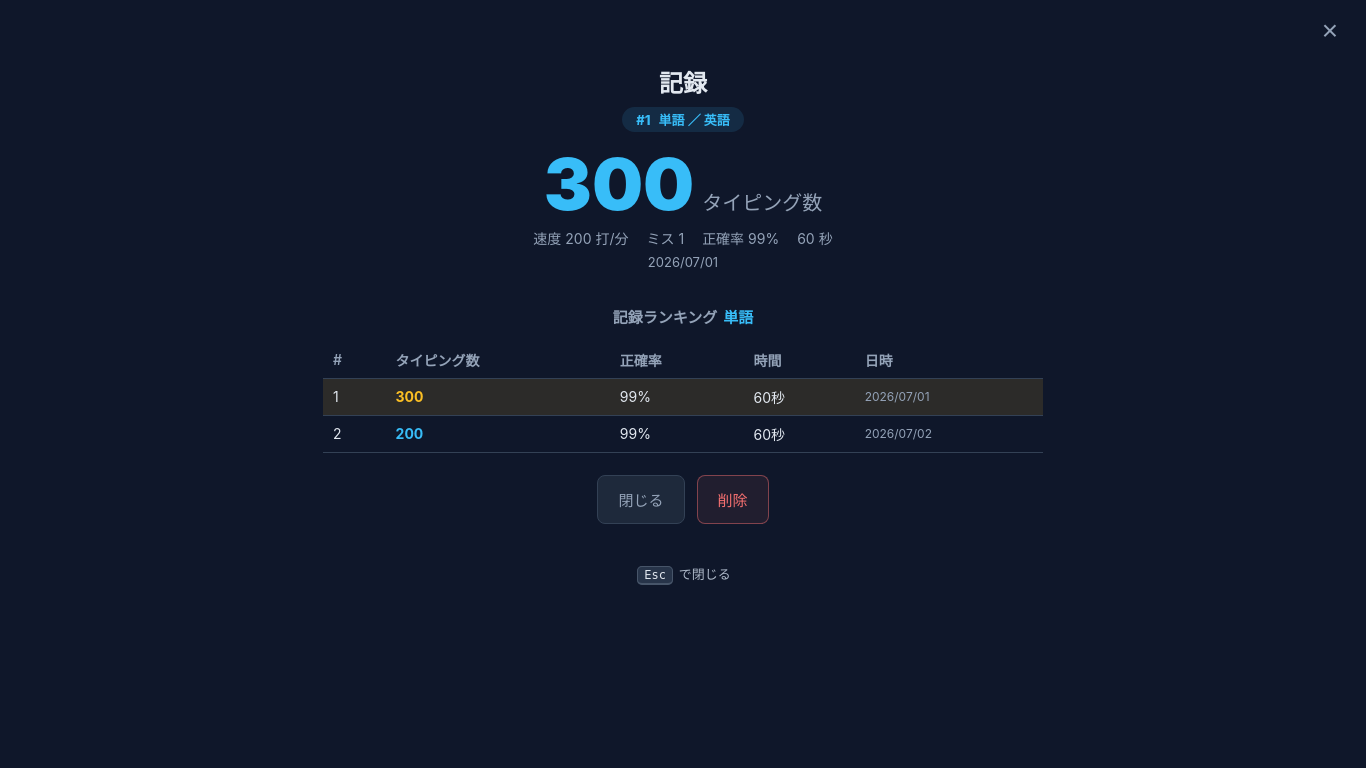
Test case: RecordDetail：削除の2段階確認 › 1回目のクリックでは削除せず、確認状態になるだけ
Click the button with aria-label "この記録を削除する" at (732, 499), box [696, 475, 768, 524]
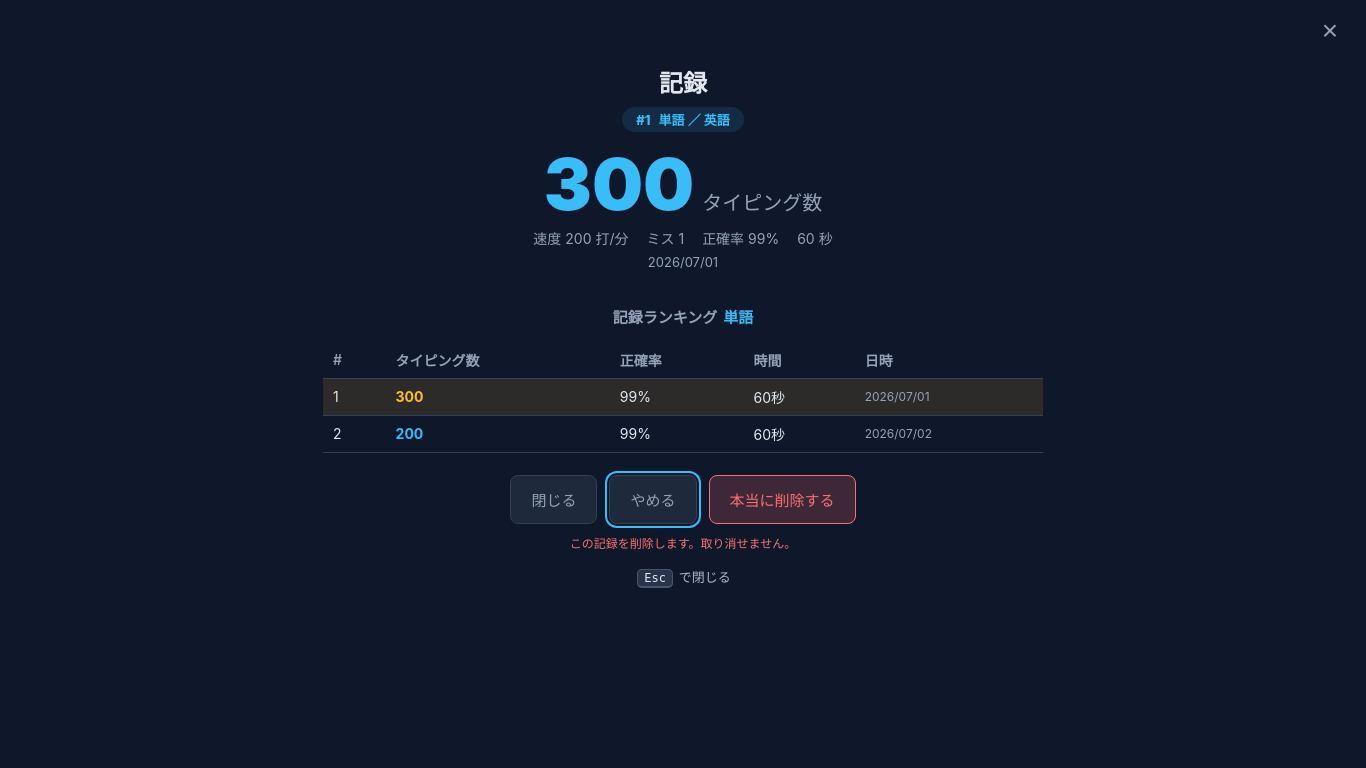
Now the button "本当に削除する" is shown, box [708, 475, 856, 524]
Now the text "この記録を削除します。取り消せません。" is shown, box [570, 536, 796, 551]
